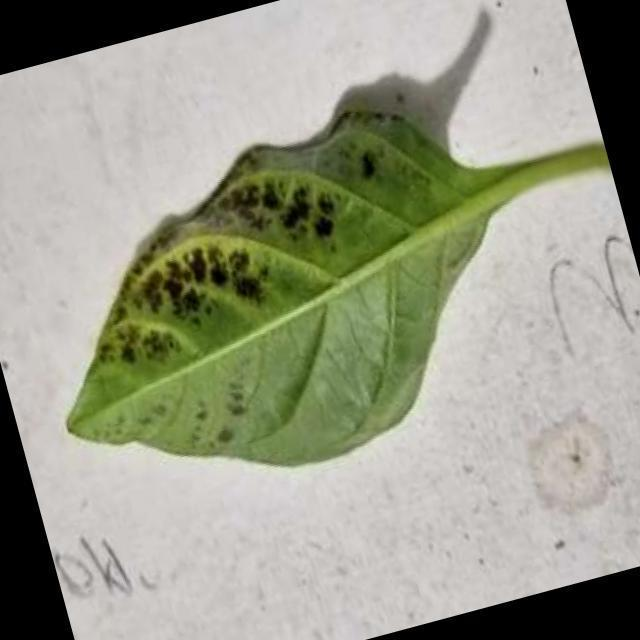Bacterial Spot: (60, 136, 417, 372)
